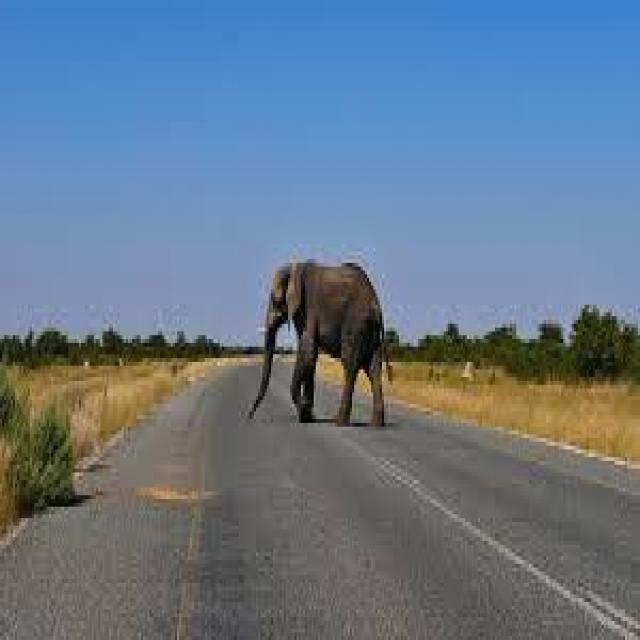Elephant: (241, 228, 406, 434)
